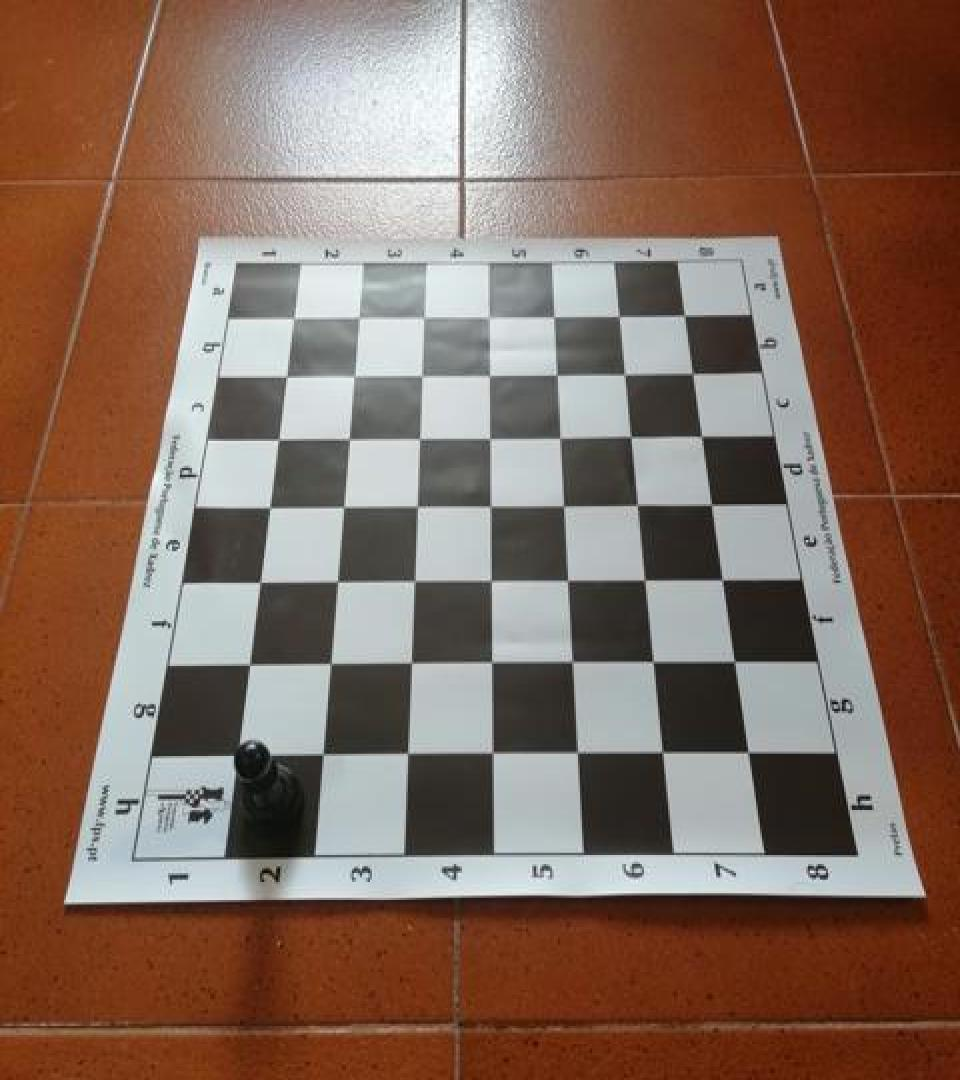xcorner: (670, 296, 700, 330), (605, 297, 635, 331), (539, 297, 569, 331), (474, 298, 504, 332), (409, 298, 439, 332), (344, 299, 374, 333), (278, 299, 308, 333), (678, 354, 708, 388), (610, 354, 640, 388), (407, 356, 437, 390), (339, 356, 369, 390), (271, 358, 301, 392), (688, 417, 718, 451), (617, 417, 647, 451), (546, 418, 576, 452), (475, 418, 505, 452), (404, 420, 434, 454), (333, 420, 363, 454), (698, 486, 728, 520), (624, 486, 654, 520), (550, 487, 580, 521), (476, 487, 506, 521), (402, 488, 432, 522), (328, 488, 358, 522), (253, 489, 283, 523), (709, 560, 739, 594), (631, 561, 661, 595), (554, 562, 584, 596), (476, 562, 506, 596), (399, 564, 429, 598), (321, 564, 351, 598), (721, 644, 751, 678), (640, 644, 670, 678), (477, 646, 507, 680), (396, 646, 426, 680), (314, 647, 344, 681), (233, 648, 263, 682), (734, 734, 764, 768), (649, 734, 679, 768), (563, 736, 593, 770), (478, 737, 508, 771), (392, 737, 422, 771), (306, 738, 336, 772), (221, 739, 251, 773), (543, 356, 573, 389), (475, 356, 505, 389), (262, 421, 292, 454), (244, 565, 274, 598), (558, 645, 588, 678)
